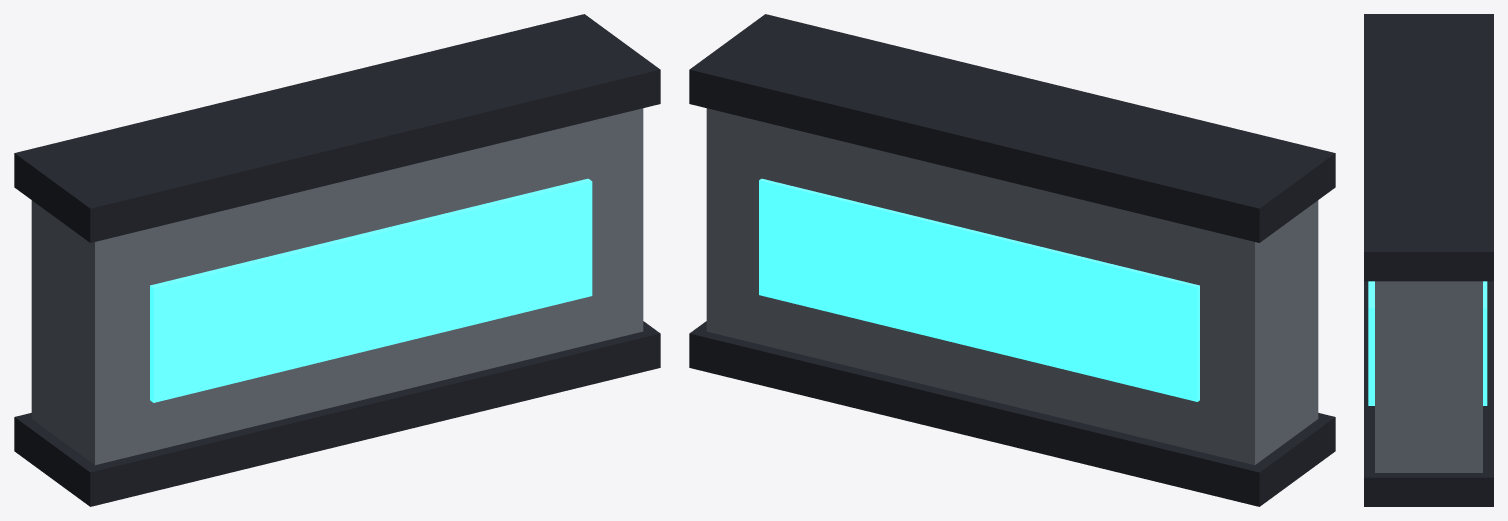
The model's file is wall_light.glb.
3 renders of one model, left to right at view 1: azimuth 30°, elevation 25°; view 2: azimuth 150°, elevation 25°; view 3: azimuth 270°, elevation 25°, orthographic. The views are drawn at different scales.
Parts seen in each view (by area): view 1: wall_light; view 2: wall_light; view 3: wall_light.
Boxes of the visible parts, <box> form: wall_light: <box>14,14,660,506</box>; wall_light: <box>689,14,1335,506</box>; wall_light: <box>1364,14,1493,506</box>.
Bounding box in the file's own units: 0.52 × 0.26 × 0.12.
